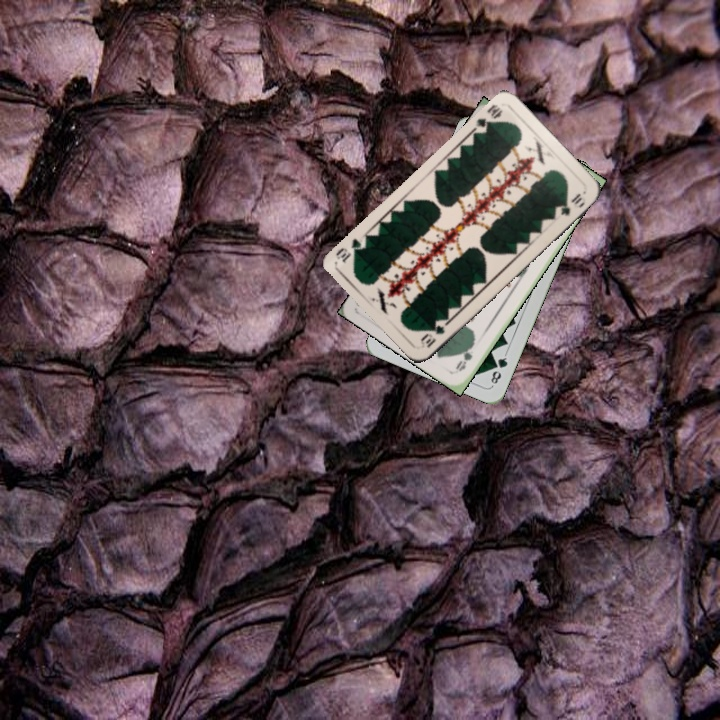G10: (471, 100, 506, 136), (416, 321, 448, 350)
G8: (487, 350, 510, 388)
GO: (451, 337, 478, 374)
